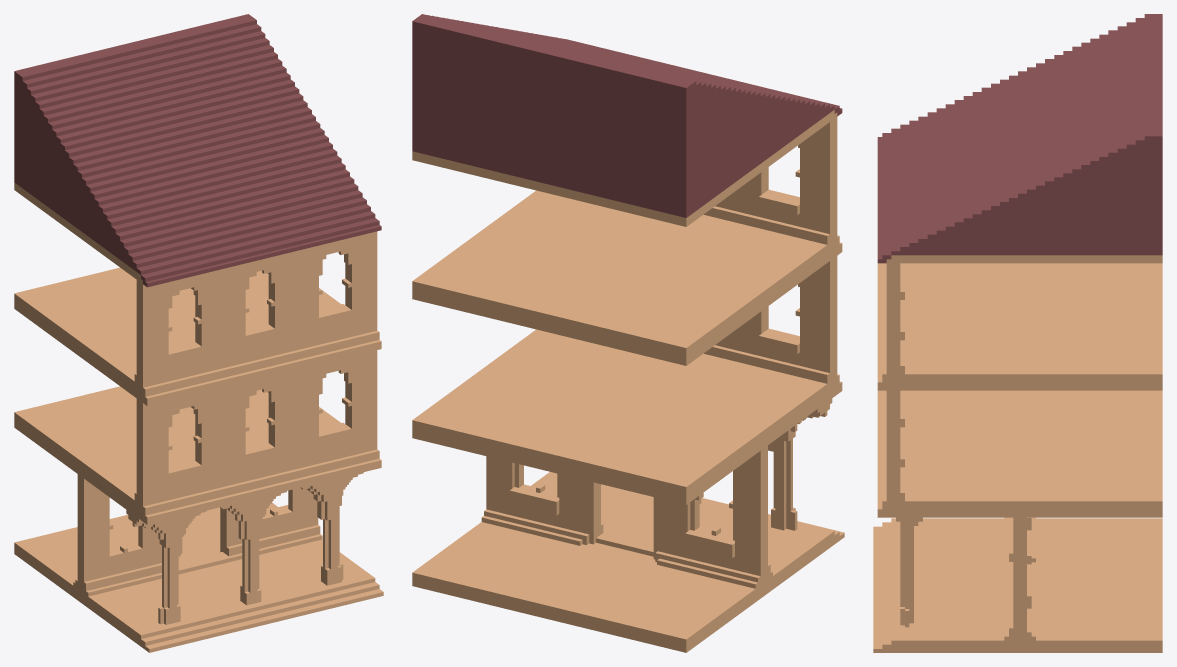
Rendered from Filler LSU Building 1-1.obj.
3 views of the same model, side by side, from view 1: azimuth 30°, elevation 25°; view 2: azimuth 150°, elevation 25°; view 3: azimuth 270°, elevation 25° (orthographic). The views are drawn at different scales.
Parts seen in each view (by area): view 1: Filler LSU Building 1-1; view 2: Filler LSU Building 1-1; view 3: Filler LSU Building 1-1.
Part boxes in pixels (<box>): Filler LSU Building 1-1: <box>14,14,383,652</box>; Filler LSU Building 1-1: <box>412,14,844,652</box>; Filler LSU Building 1-1: <box>873,14,1162,652</box>.
Size of the model in its own units: 64 by 126 by 64.
Materials: 1 (1 with a texture image).
